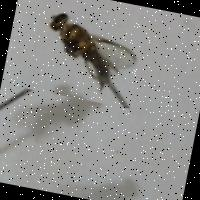Oriental-fruit-fly: (25, 0, 147, 109)
